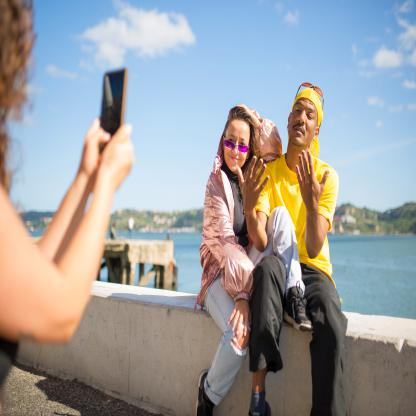Eye: (306, 112, 314, 121), (294, 106, 302, 114), (228, 137, 235, 143), (239, 142, 246, 146)
Mouth: (294, 126, 304, 136), (230, 156, 240, 160)
Nose: (297, 113, 307, 125), (232, 144, 239, 156)
